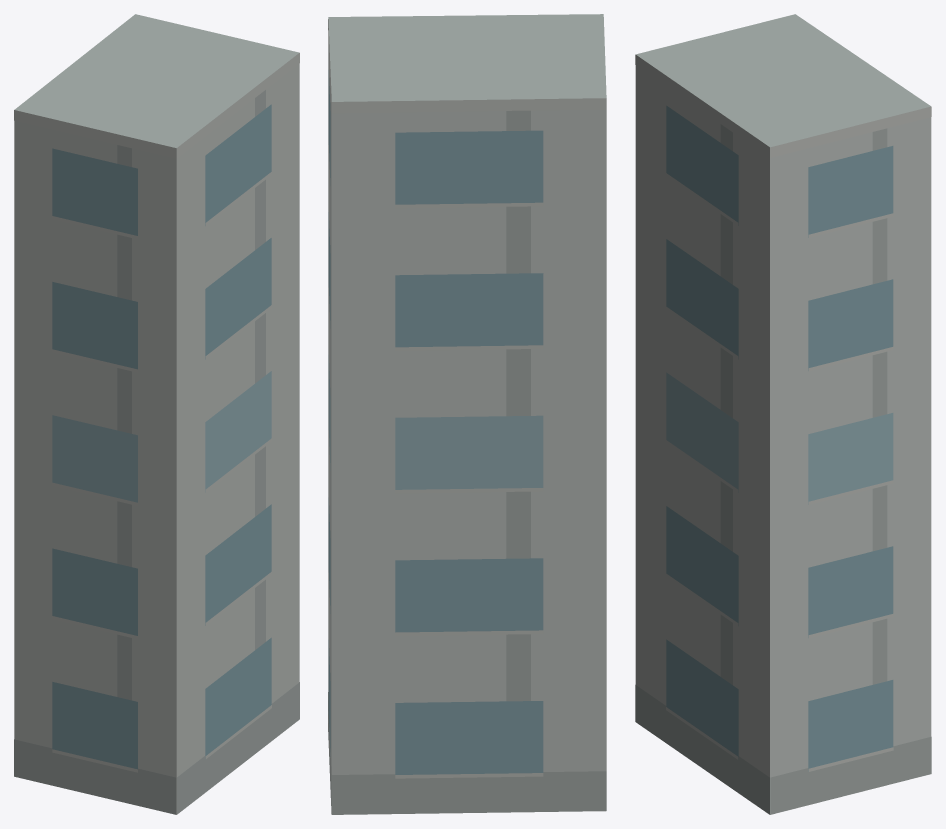
The model's file is survey-upis-32618432.glb.
The picture shows the model from 3 angles, left to right: view 1: azimuth 30°, elevation 25°; view 2: azimuth 150°, elevation 25°; view 3: azimuth 270°, elevation 25°; orthographic projection. The views are drawn at different scales.
Parts seen in each view (by area): view 1: survey-upis-32618432.tmp; view 2: survey-upis-32618432.tmp; view 3: survey-upis-32618432.tmp.
Part boxes in pixels (<box>): survey-upis-32618432.tmp: <box>14,14,299,814</box>; survey-upis-32618432.tmp: <box>328,14,606,814</box>; survey-upis-32618432.tmp: <box>635,14,931,814</box>.
Bounding box in the file's own units: 6.54 × 15.25 × 6.14.
